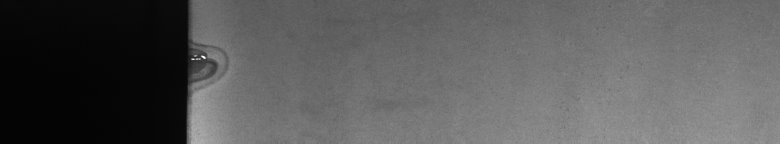hb: (200, 38, 233, 95)
